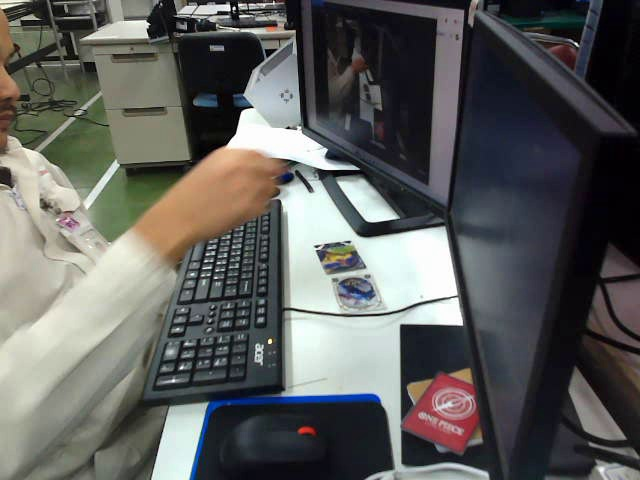can: (326, 273, 387, 310), (307, 235, 368, 271)
